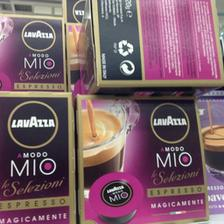Kaffee: (77, 93, 209, 223), (77, 0, 222, 92), (0, 91, 74, 223), (0, 12, 66, 90)
